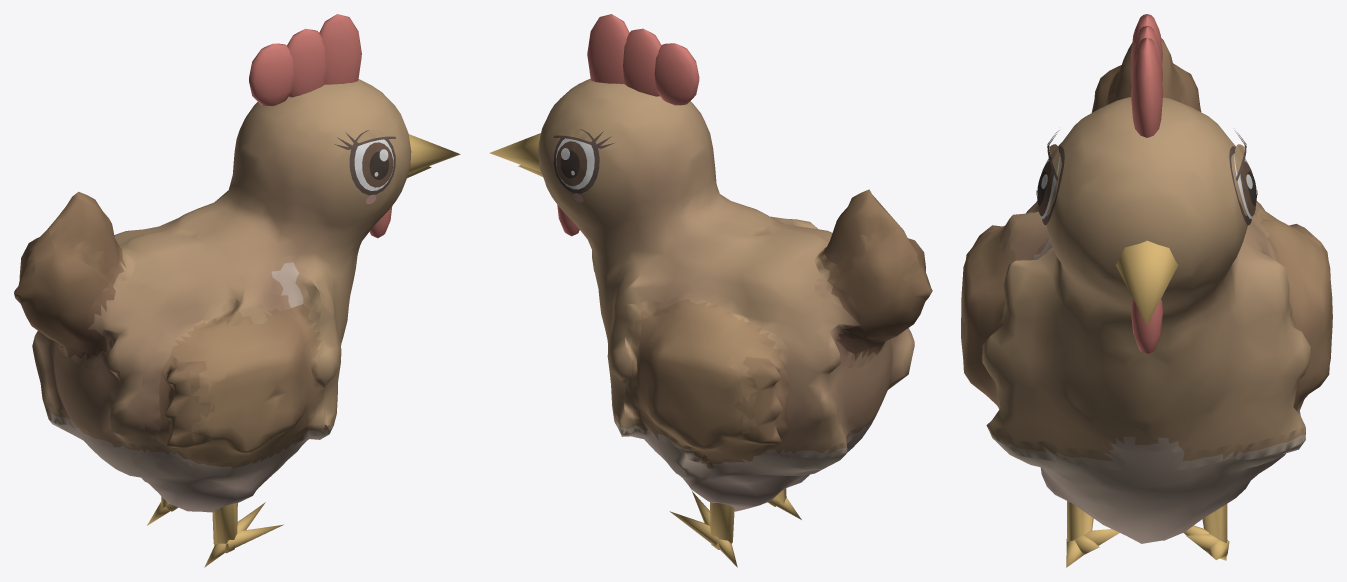
File: brown_chicken.glb
3 views of the same model, side by side, from view 1: azimuth 30°, elevation 25°; view 2: azimuth 150°, elevation 25°; view 3: azimuth 270°, elevation 25° (orthographic). The views are drawn at different scales.
Parts seen in each view (by area): view 1: brown_chicken; view 2: brown_chicken; view 3: brown_chicken.
Part boxes in pixels (<box>): brown_chicken: <box>14,14,460,567</box>; brown_chicken: <box>489,14,932,567</box>; brown_chicken: <box>961,14,1332,567</box>.
Bounding box in the file's own units: 0.5326 × 0.5654 × 0.3072.
